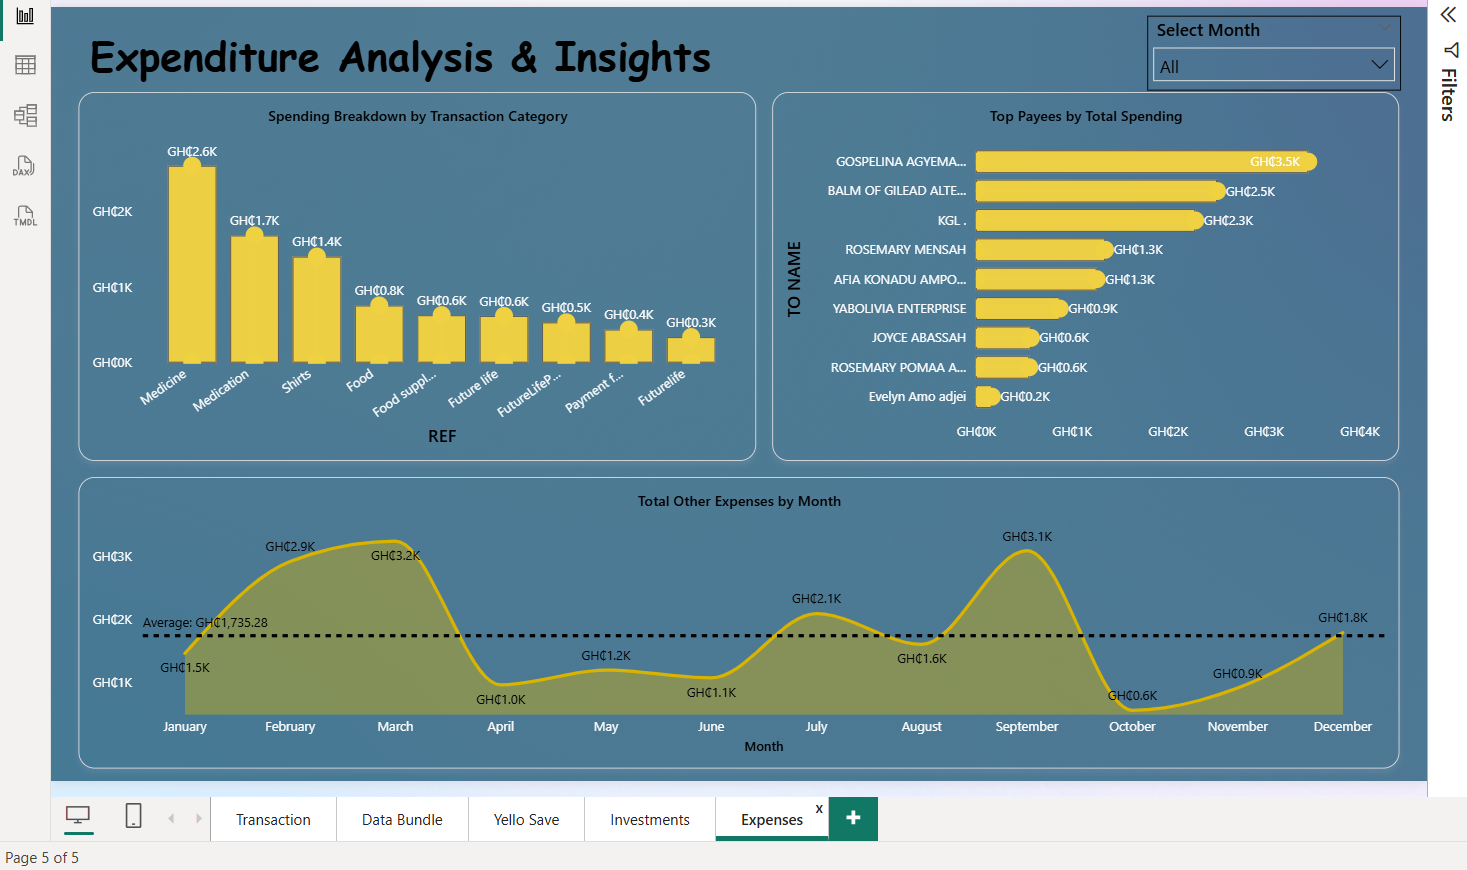

The dashboard page shown, as its layout file describes it:
{"tool":"powerbi","page":{"name":" Expenses","canvas":[1280,720],"ordinal":4},"visuals":[{"type":"columnChart","title":"Spending Breakdown by Transaction Category","fields":{"Y":["Calculated Measures.Total Transaction Amount"],"Category":["MoMo_Transactions.REF"]},"box":[25.7,78.6,630,342.9],"z":0},{"type":"barChart","title":"Top Payees by Total Spending","fields":{"Category":["MoMo_Transactions.TO NAME"],"Y":["Calculated Measures.Total Transaction Amount"]},"box":[671.4,78.6,582.9,342.9],"z":1000},{"type":"lineChart","fields":{"Category":["MoMo_Transactions.TRANSACTION DATE.Variation.Date Hierarchy.Month"],"Y":["Calculated Measures.Total Other Expenses"]},"box":[25.7,437.1,1228.6,271.4],"z":2000},{"type":"textbox","box":[31.4,14.3,667.1,64.3],"z":3000},{"type":"slicer","title":"Select Month","fields":{"Values":["MoMo_Transactions.Month Name"]},"box":[1019.6,8.2,236,70],"z":4000}]}

Visuals, with their boxes on the page's 1280x720 design canvas (x1, y1, x2, y2). These are canvas units, not pixel positions in the 1467x870 screenshot, which may show the page scaled, cropped or inside an application window:
"Spending Breakdown by Transaction Category" columnChart: 26, 79, 656, 422
"Top Payees by Total Spending" barChart: 671, 79, 1254, 422
lineChart - MoMo_Transactions.TRANSACTION DATE.Variation.Date Hierarchy.Month x Calculated Measures.Total Other Expenses: 26, 437, 1254, 708
textbox: 31, 14, 698, 79
"Select Month" slicer: 1020, 8, 1256, 78
